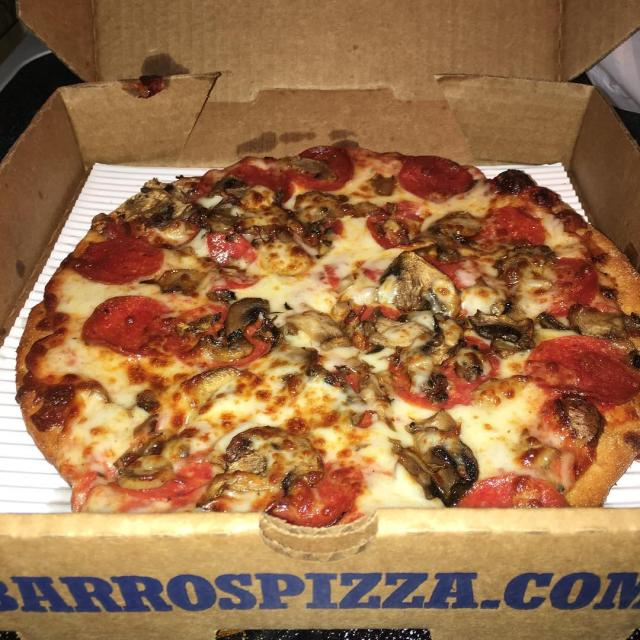mushrooms: (394, 410, 478, 506), (225, 426, 322, 492), (377, 252, 460, 316), (495, 245, 571, 286), (469, 311, 534, 350), (568, 304, 628, 339), (560, 395, 603, 442), (225, 298, 270, 334)
pepperoni: (525, 335, 640, 404), (390, 352, 485, 408), (82, 296, 168, 353), (70, 237, 162, 284), (458, 474, 568, 507), (398, 156, 474, 201), (473, 206, 546, 245), (206, 233, 256, 266)
pizza: (16, 145, 640, 527)
